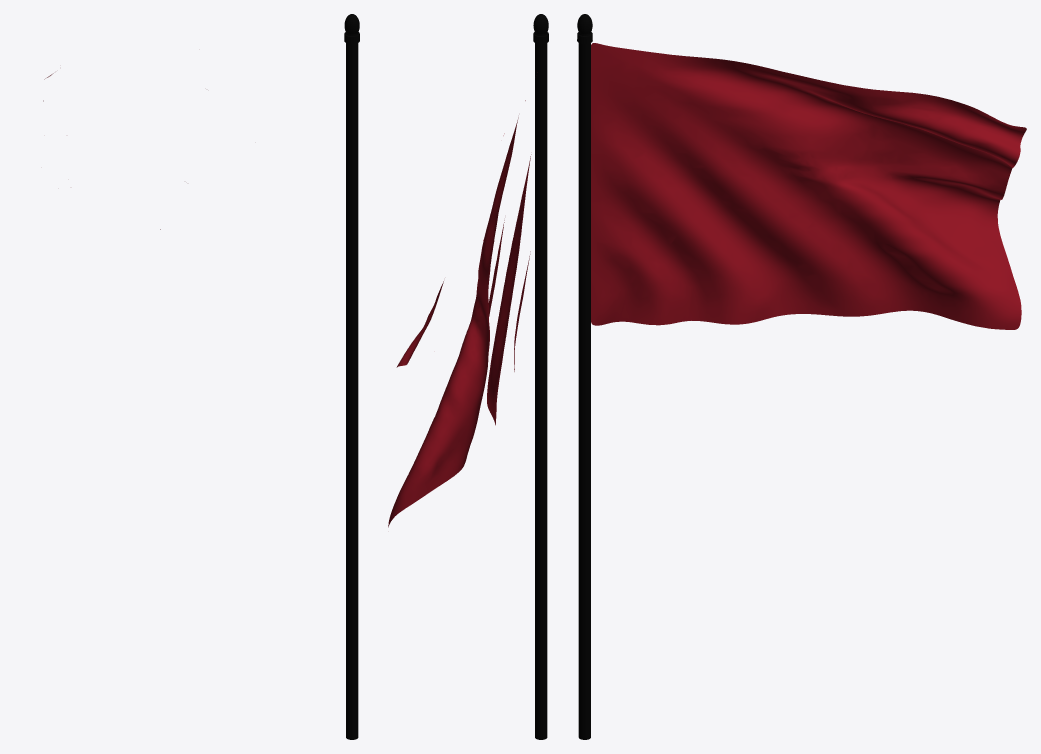
File: Flag_Red.glb
3 renders of one model, left to right at view 1: azimuth 30°, elevation 25°; view 2: azimuth 150°, elevation 25°; view 3: azimuth 270°, elevation 25°, orthographic.
Parts seen in each view (by area): view 1: steag_0; view 2: steag_0; view 3: steag_0.
Boxes of the visible parts, x1,y1,x2,y2 form: steag_0: (43, 14, 359, 739); steag_0: (388, 14, 548, 739); steag_0: (577, 14, 1026, 739).
Bounding box in the file's own units: 0.4065 × 2.03 × 1.14.
1 material, 1 textured.
